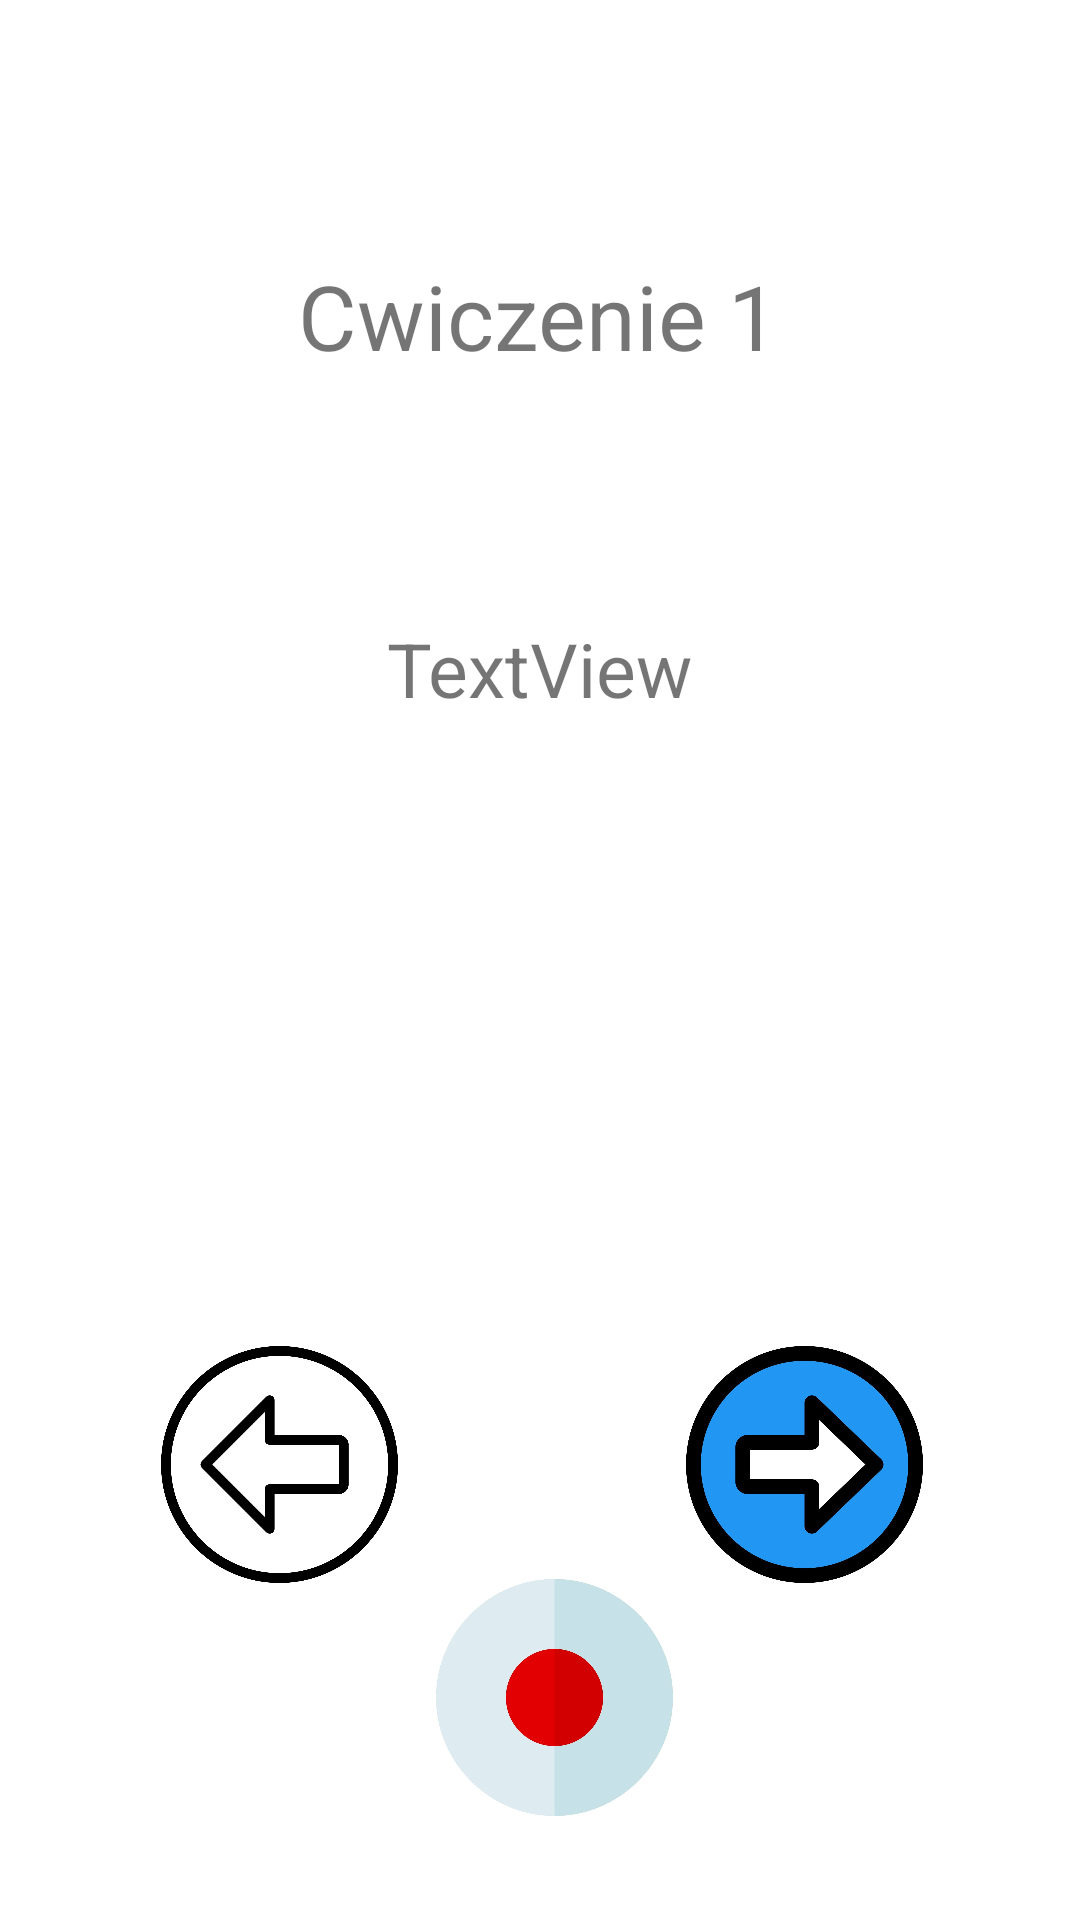

Screen size 1080w x 1920h. Icon name, then its center in pixels as (x,y):
next: (804,1464)
previous: (279,1464)
record: (554,1697)
